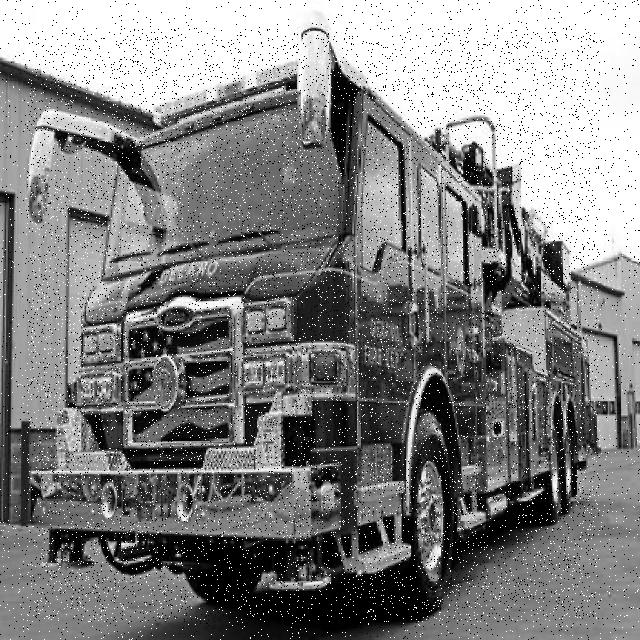Fire Truck: (27, 28, 600, 622)
